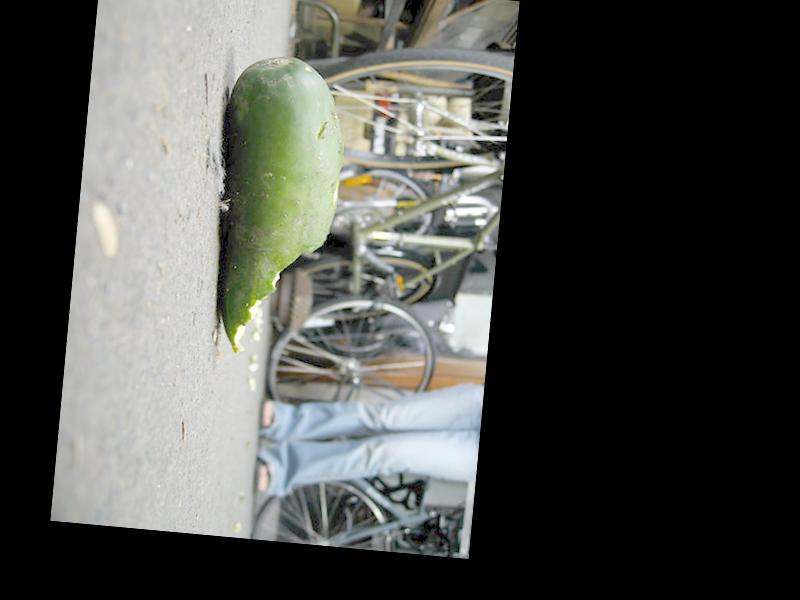Cucumber: (206, 53, 350, 364)
